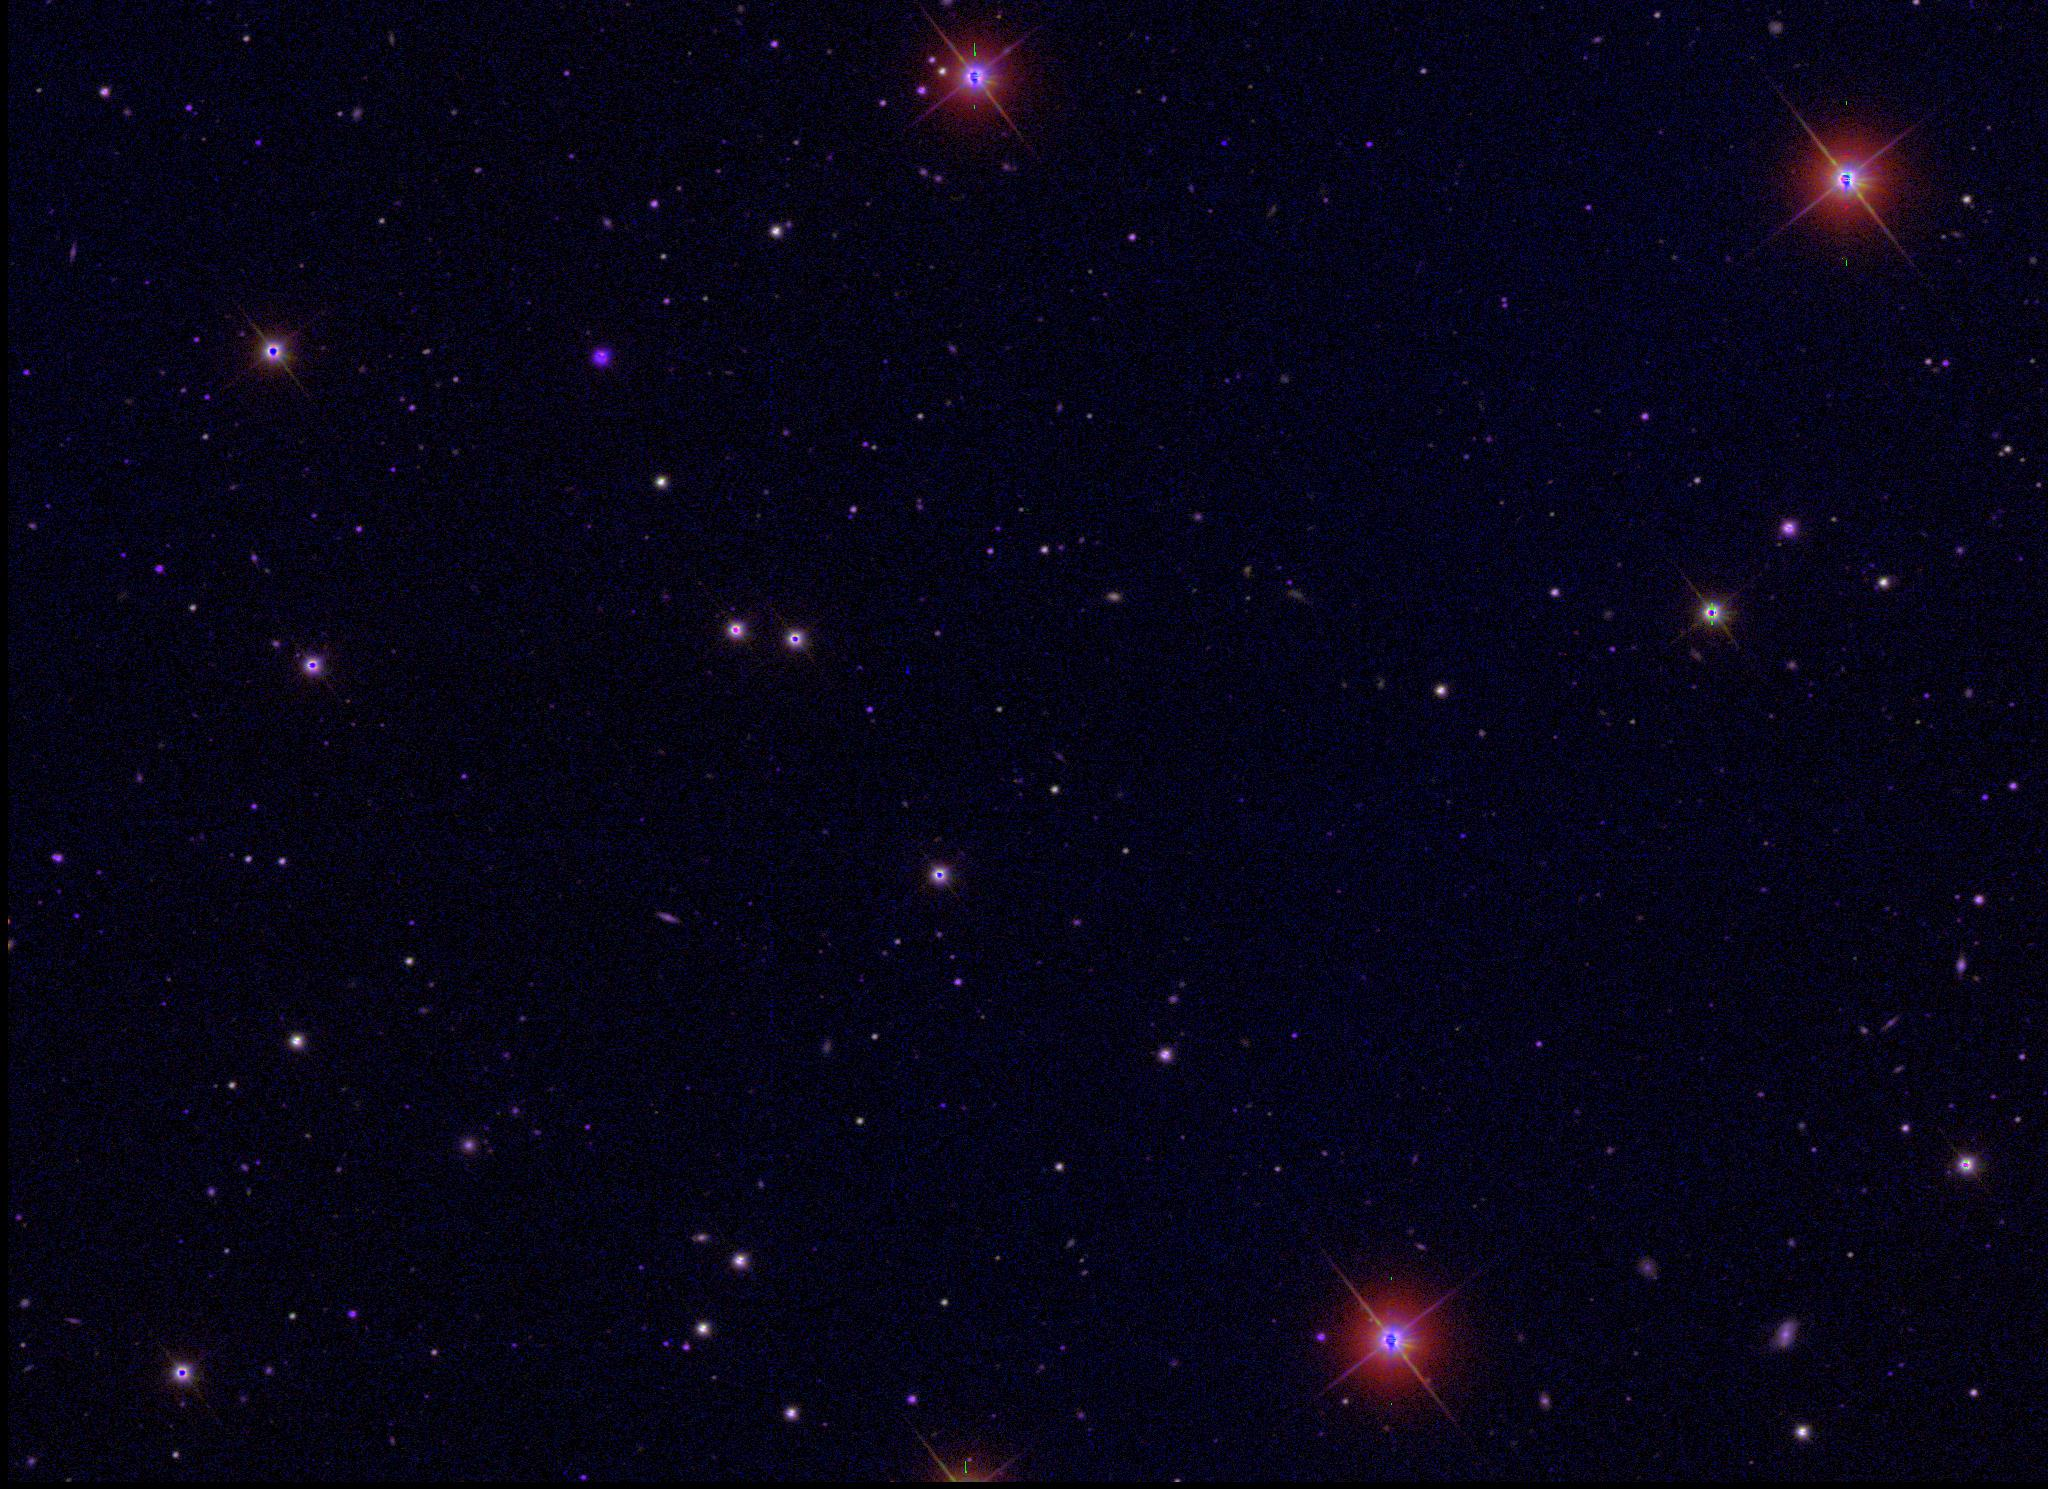L: (1216, 135, 1231, 150)
